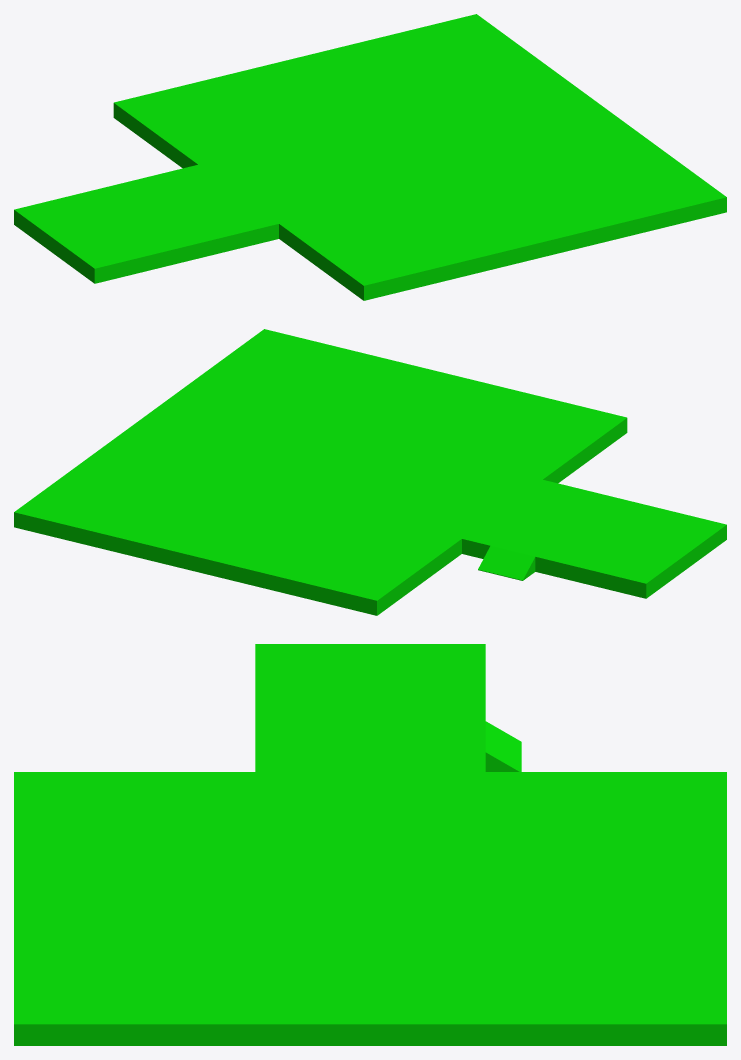
Rendered from SM_House_Floor_01.fbx.
3 renders of one model, top to bottom at view 1: azimuth 30°, elevation 25°; view 2: azimuth 150°, elevation 25°; view 3: azimuth 270°, elevation 25°, orthographic. The views are drawn at different scales.
Visible parts, largest first — view 1: SM_House_Floor_01; view 2: SM_House_Floor_01; view 3: SM_House_Floor_01.
Boxes of the visible parts, x1,y1,x2,y2 form: SM_House_Floor_01: [14, 14, 726, 300]; SM_House_Floor_01: [14, 329, 726, 615]; SM_House_Floor_01: [14, 644, 726, 1045].
Bounding box in the file's own units: 1788 × 1416 × 47.19.
